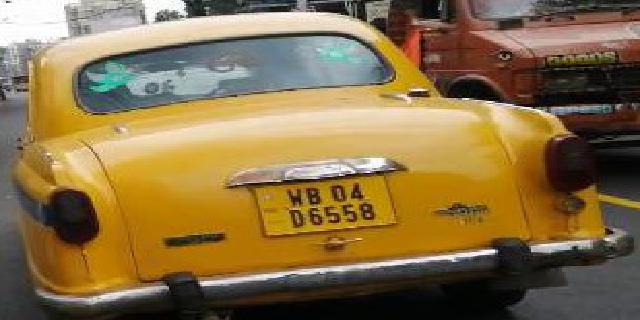Car: (11, 5, 633, 312)
